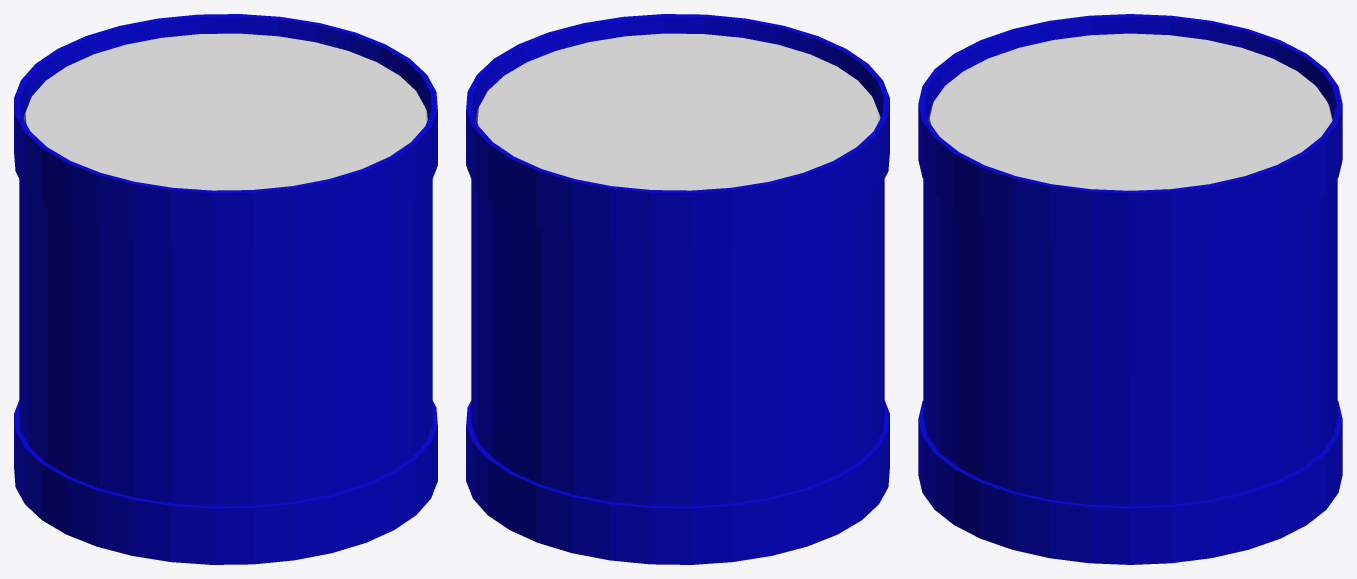
File: kick_placeholder.fbx
The picture shows the model from 3 angles, left to right: view 1: azimuth 30°, elevation 25°; view 2: azimuth 150°, elevation 25°; view 3: azimuth 270°, elevation 25°; orthographic projection.
Parts seen in each view (by area): view 1: Cylinder; view 2: Cylinder; view 3: Cylinder.
Boxes of the visible parts, <box> form: Cylinder: <box>14,14,437,564</box>; Cylinder: <box>466,14,889,564</box>; Cylinder: <box>918,14,1342,564</box>.
Bounding box in the file's own units: 205 × 198 × 205.
